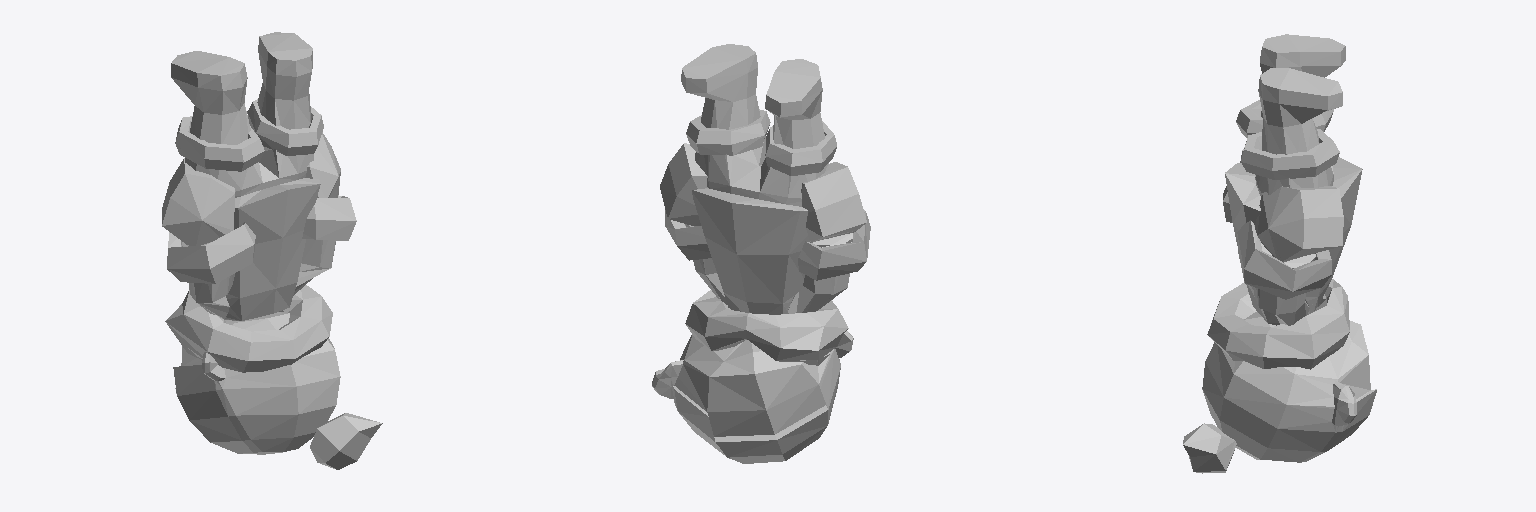
Rendered from eikastanding_000171.obj.
3 views of the same model, side by side, from view 1: azimuth 30°, elevation 25°; view 2: azimuth 150°, elevation 25°; view 3: azimuth 270°, elevation 25° (orthographic).
Parts seen in each view (by area): view 1: Cylinder; view 2: Cylinder; view 3: Cylinder.
Part boxes in pixels (x1,y1,x2,y2): Cylinder: (162,32,382,469); Cylinder: (652,44,870,463); Cylinder: (1183,34,1376,473).
Size of the model in its own units: 26.14 by 50.83 by 22.82.